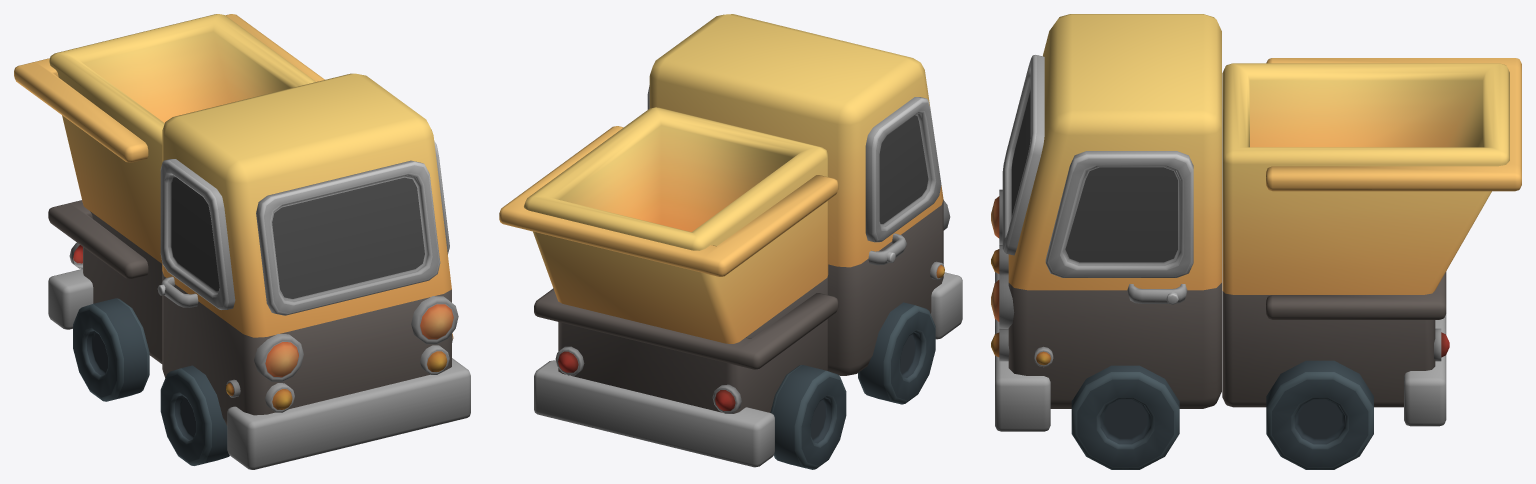
Rendered from mct_car_05.fbx.
3 renders of one model, left to right at view 1: azimuth 30°, elevation 25°; view 2: azimuth 150°, elevation 25°; view 3: azimuth 270°, elevation 25°, orthographic. The views are drawn at different scales.
Parts seen in each view (by area): view 1: mct_car_05, mct_car_05_w; view 2: mct_car_05, mct_car_05_w; view 3: mct_car_05, mct_car_05_w.
Boxes of the visible parts, x1,y1,x2,y2 form: mct_car_05: (14,14,470,469); mct_car_05_w: (73,298,229,465); mct_car_05: (499,14,962,467); mct_car_05_w: (770,302,935,469); mct_car_05: (991,14,1521,431); mct_car_05_w: (1071,360,1373,469).
Size of the model in its own units: 130 by 159 by 222.
